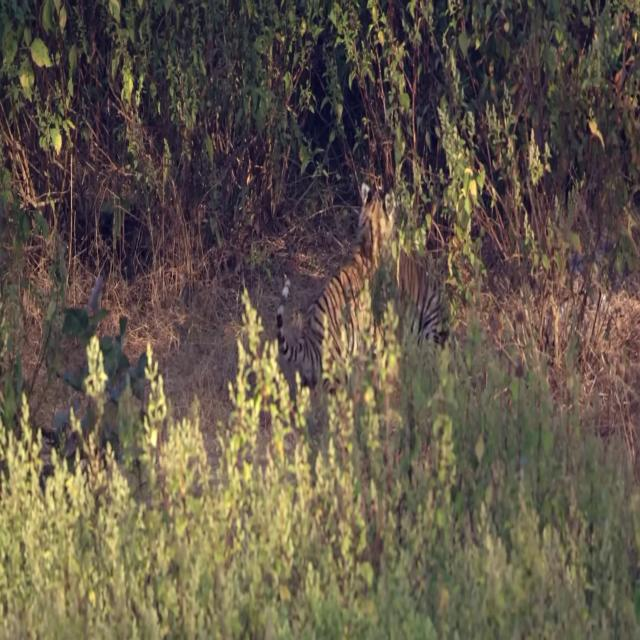tiger: (275, 178, 396, 392)
